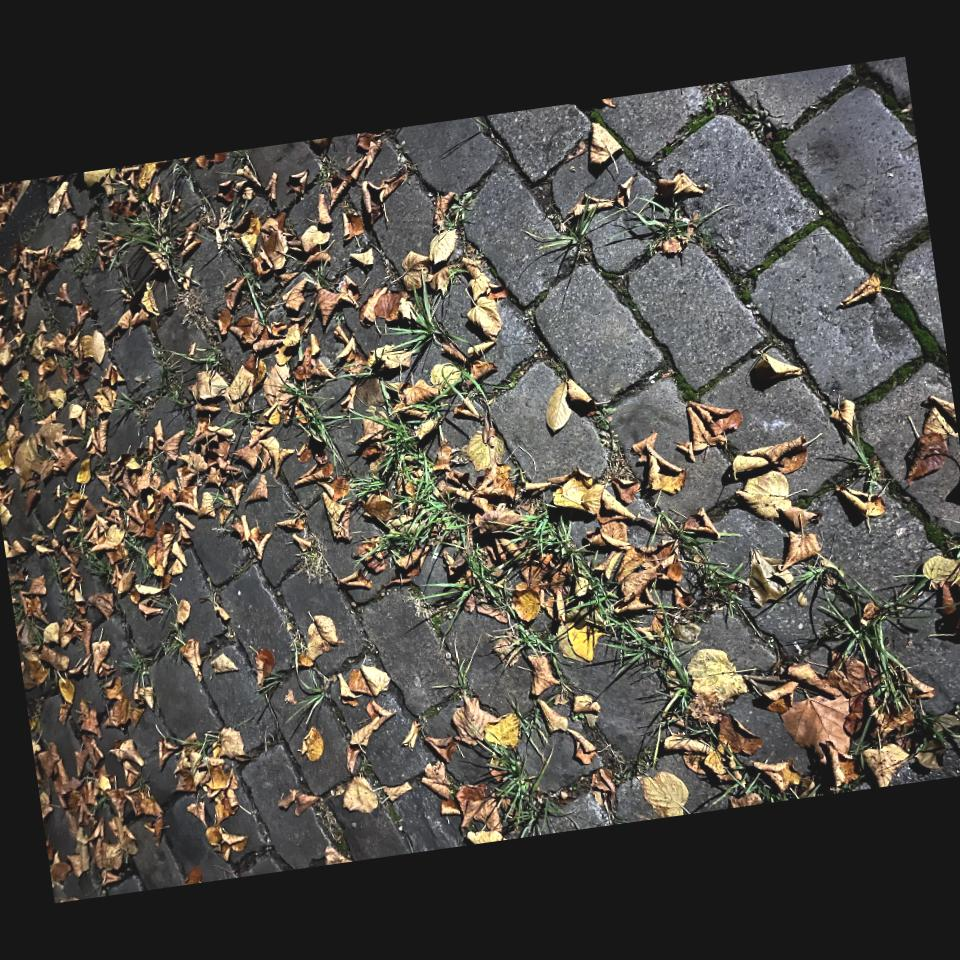weed: (502, 507, 689, 692), (352, 382, 473, 581), (801, 568, 931, 719), (113, 214, 182, 259), (405, 287, 446, 352), (642, 203, 702, 236), (543, 220, 594, 257)
